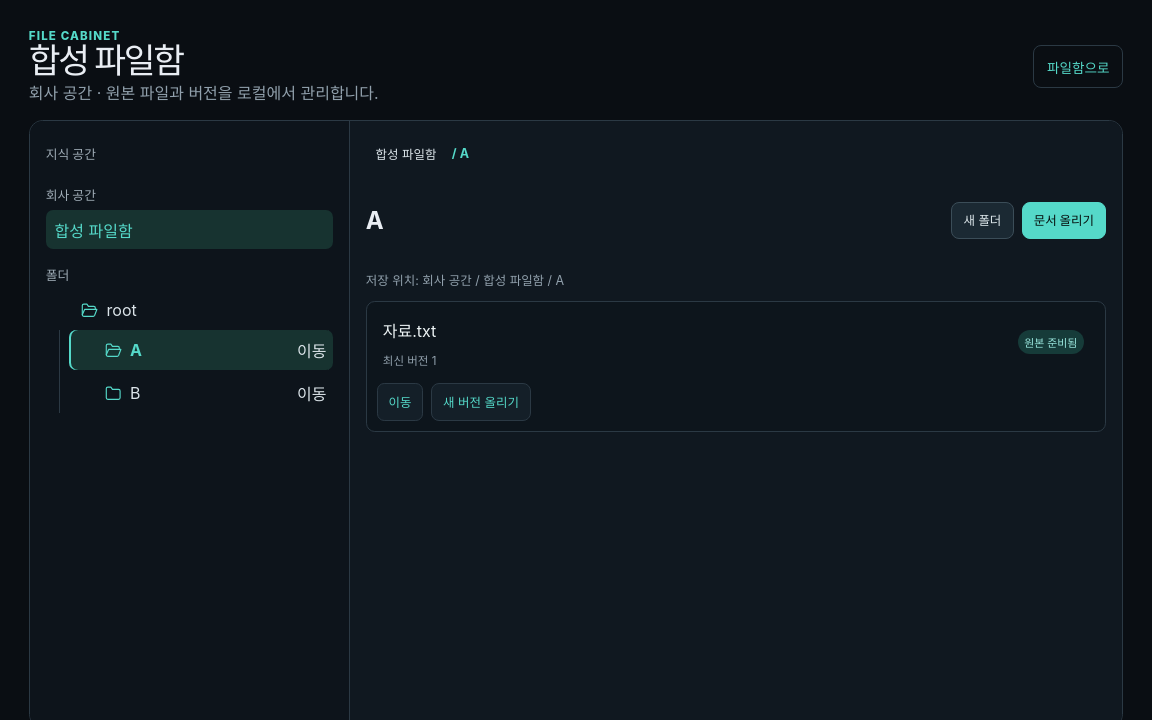
separates the moved object, locations, destination browser, and final action
Click the button with aria-label "자료.txt 이동" at [400, 402], box [377, 383, 423, 421]
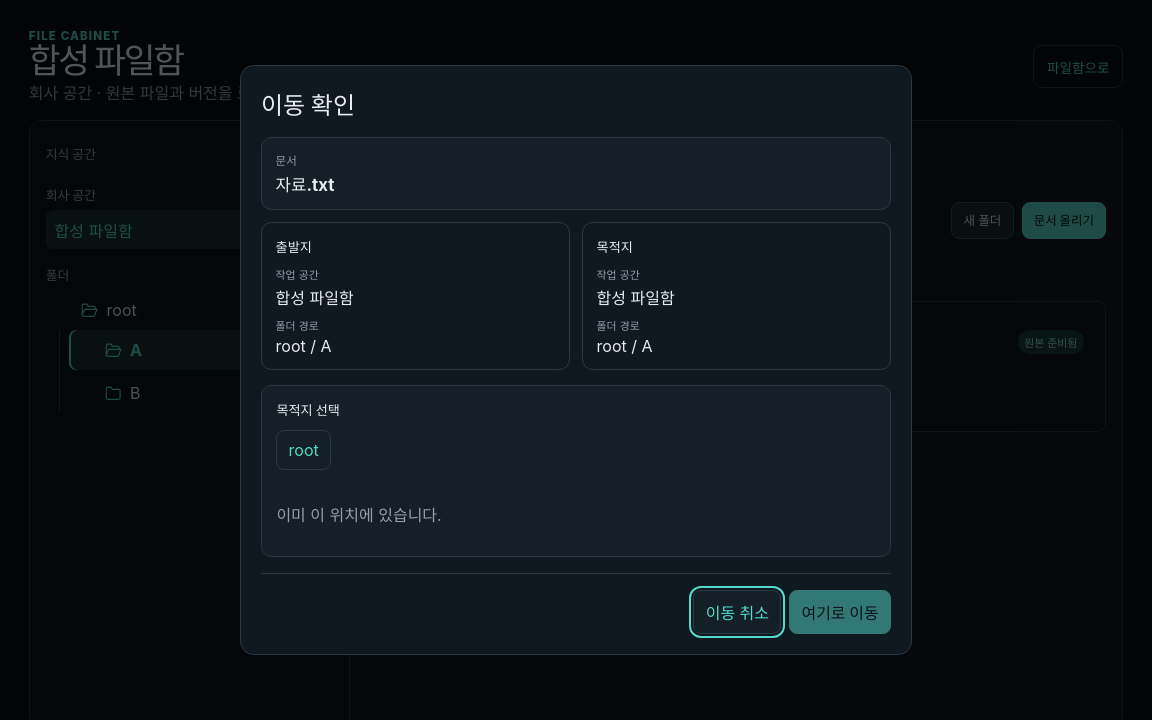
Check: the text "문서" is shown, box [276, 154, 297, 168]
Check: the text "자료.txt" is shown, box [276, 175, 334, 195]
Check: the text "합성 파일함" below "출발지" is shown, box [276, 288, 354, 308]
